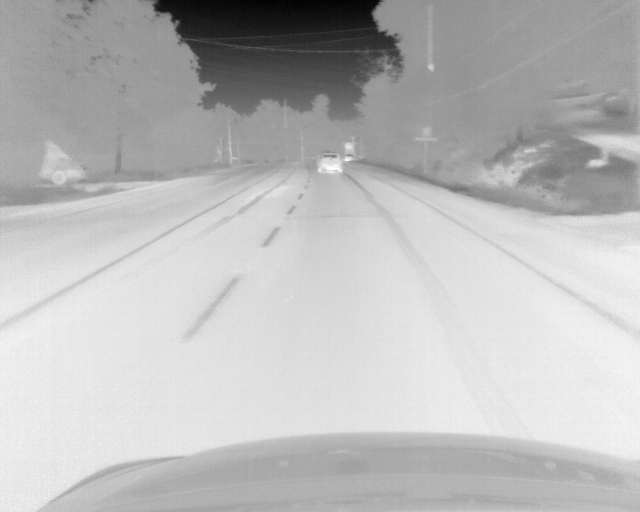car: (34, 139, 87, 187), (318, 152, 342, 174), (343, 152, 354, 163)
